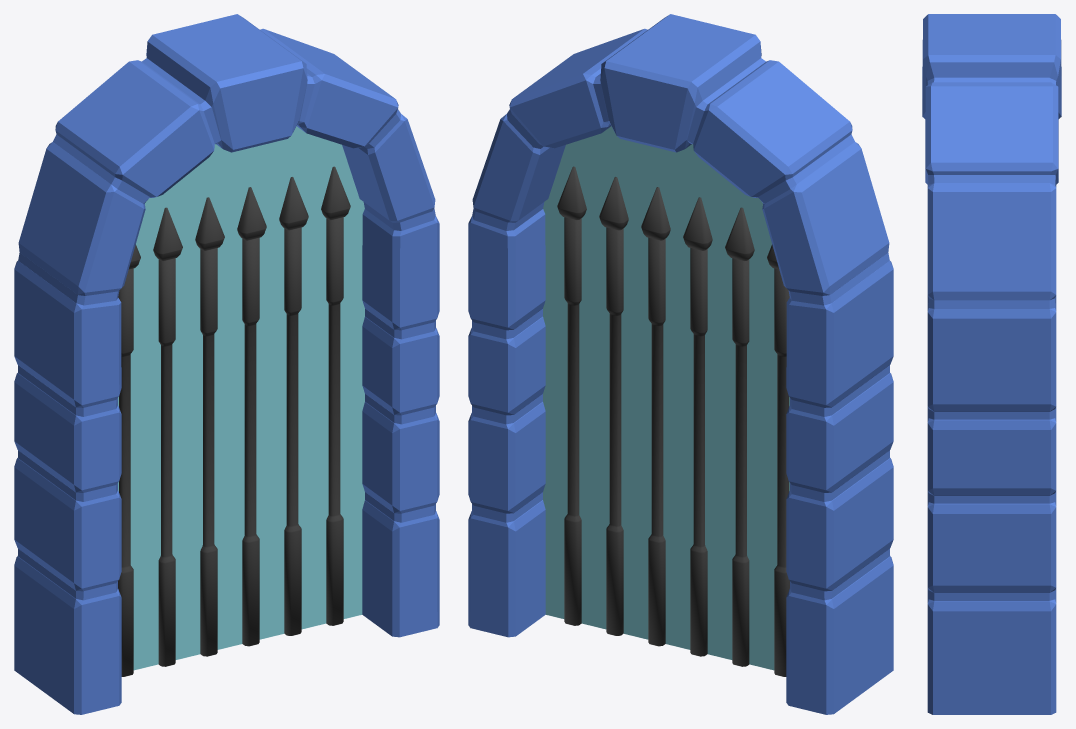
Rendered from door.fbx.
3 views of the same model, side by side, from view 1: azimuth 30°, elevation 25°; view 2: azimuth 150°, elevation 25°; view 3: azimuth 270°, elevation 25° (orthographic).
Parts seen in each view (by area): view 1: door, spike; view 2: door, spike; view 3: door.
Boxes of the visible parts, x1,y1,x2,y2 form: door: (14, 14, 439, 714); spike: (118, 166, 350, 676); door: (468, 14, 893, 714); spike: (557, 166, 789, 676); door: (922, 14, 1061, 714).
Bounding box in the file's own units: 1.5 × 2.35 × 0.5019.
